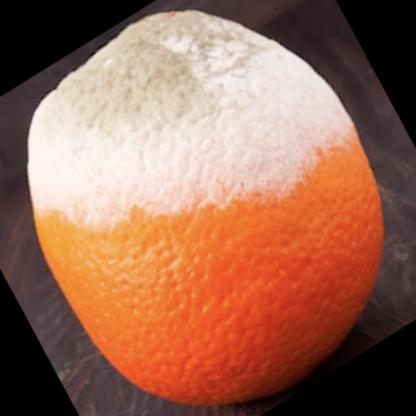rotten: (27, 16, 384, 405)
